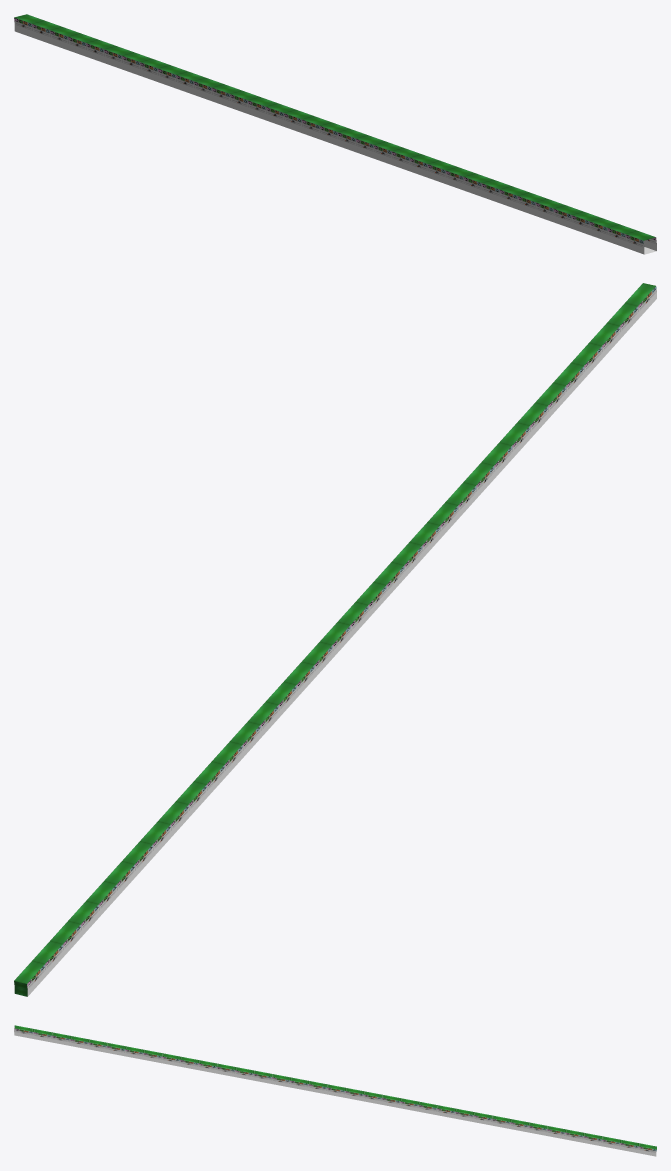
The model's file is CourseWinter_Wall_L_18.fbx.
The picture shows the model from 3 angles, top to bottom: view 1: azimuth 30°, elevation 25°; view 2: azimuth 150°, elevation 25°; view 3: azimuth 270°, elevation 25°; orthographic projection. The views are drawn at different scales.
Parts seen in each view (by area): view 1: polySurface413; view 2: polySurface413; view 3: polySurface413.
Part boxes in pixels (x1,y1,x2,y2): polySurface413: (14,14,656,254); polySurface413: (14,283,656,996); polySurface413: (14,1025,656,1156).
Bounding box in the file's own units: 2.01 × 36.98 × 168.
1 material, 1 textured.
